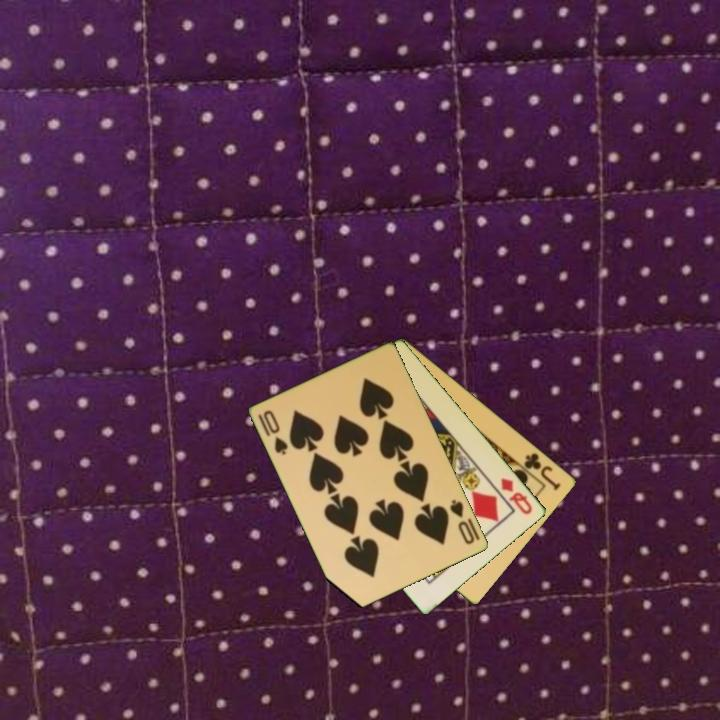10s: (255, 407, 291, 458), (447, 496, 478, 548)
Jc: (521, 449, 564, 494)
Qd: (497, 474, 536, 518)
